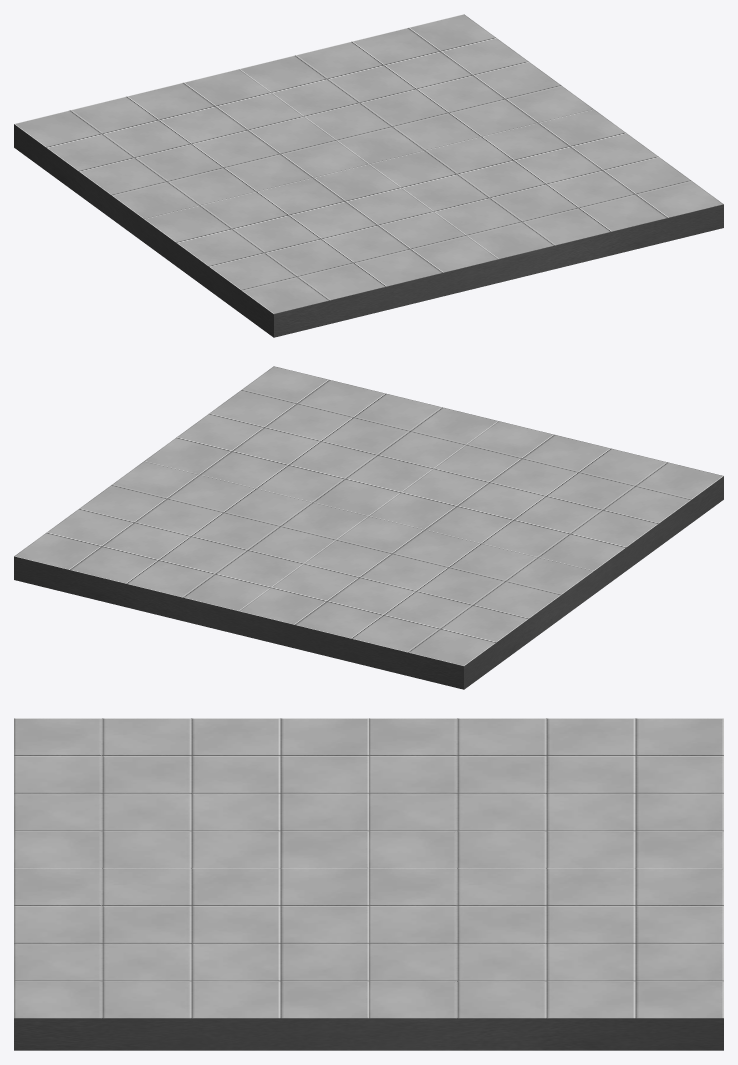
Rendered from floor_1D.FBX.
3 renders of one model, top to bottom at view 1: azimuth 30°, elevation 25°; view 2: azimuth 150°, elevation 25°; view 3: azimuth 270°, elevation 25°, orthographic. The views are drawn at different scales.
Parts seen in each view (by area): view 1: floor_1D; view 2: floor_1D; view 3: floor_1D.
Part boxes in pixels (left/top/right/bottom): floor_1D: left=14, top=14, right=723, bottom=337; floor_1D: left=14, top=366, right=723, bottom=689; floor_1D: left=14, top=718, right=723, bottom=1050.
Bounding box in the file's own units: 40 × 2 × 40.
